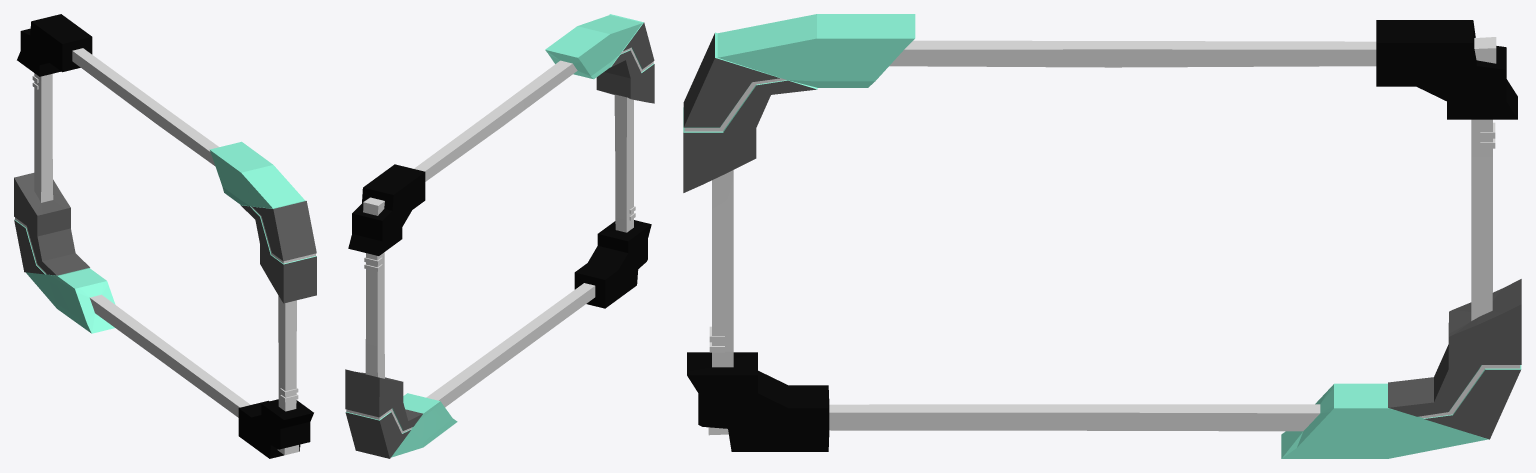
The model's file is uiFrame2.fbx.
The picture shows the model from 3 angles, left to right: view 1: azimuth 30°, elevation 25°; view 2: azimuth 150°, elevation 25°; view 3: azimuth 270°, elevation 25°; orthographic projection. The views are drawn at different scales.
Parts seen in each view (by area): view 1: 立方体; view 2: 立方体; view 3: 立方体.
Boxes of the visible parts, x1=… form: 立方体: x1=14, y1=14, x2=316, y2=458; 立方体: x1=345, y1=14, x2=654, y2=458; 立方体: x1=683, y1=14, x2=1521, y2=458.
Bounding box in the file's own units: 0.45 × 3.48 × 6.28.
3 materials, 1 textured.
